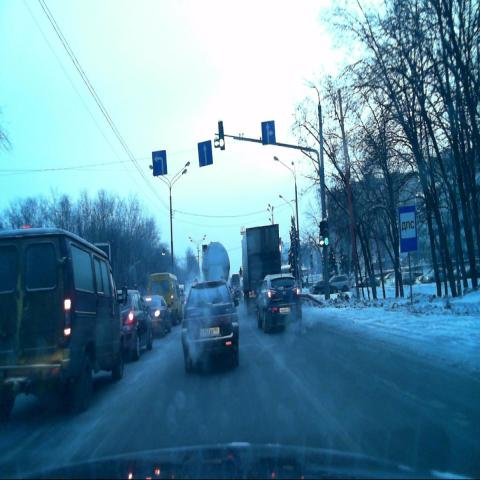7_12: (399, 205, 418, 252)
